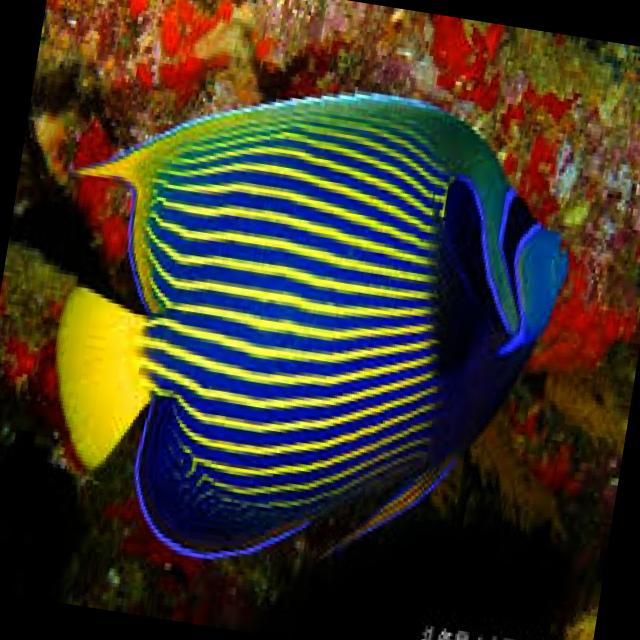AngelFish: (16, 47, 588, 601)
